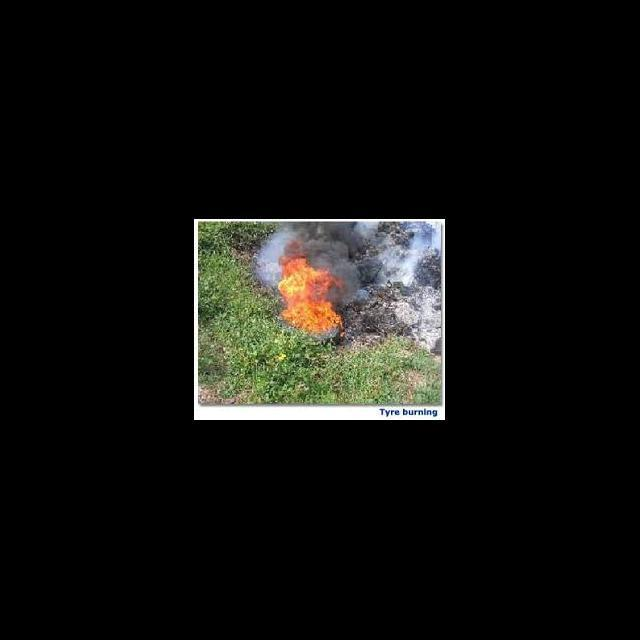Fire: (277, 260, 343, 332)
Smoke: (347, 224, 442, 294), (278, 224, 346, 258), (254, 234, 276, 284)
